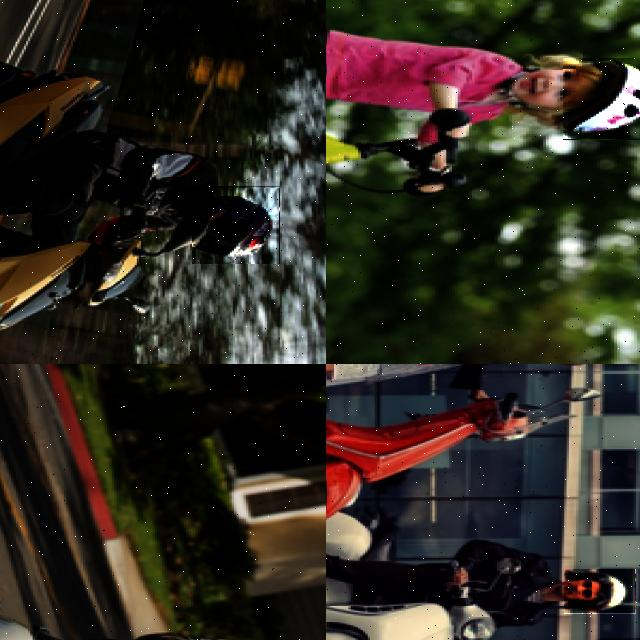helmet: (191, 184, 279, 264), (562, 58, 640, 140), (563, 569, 635, 614)
